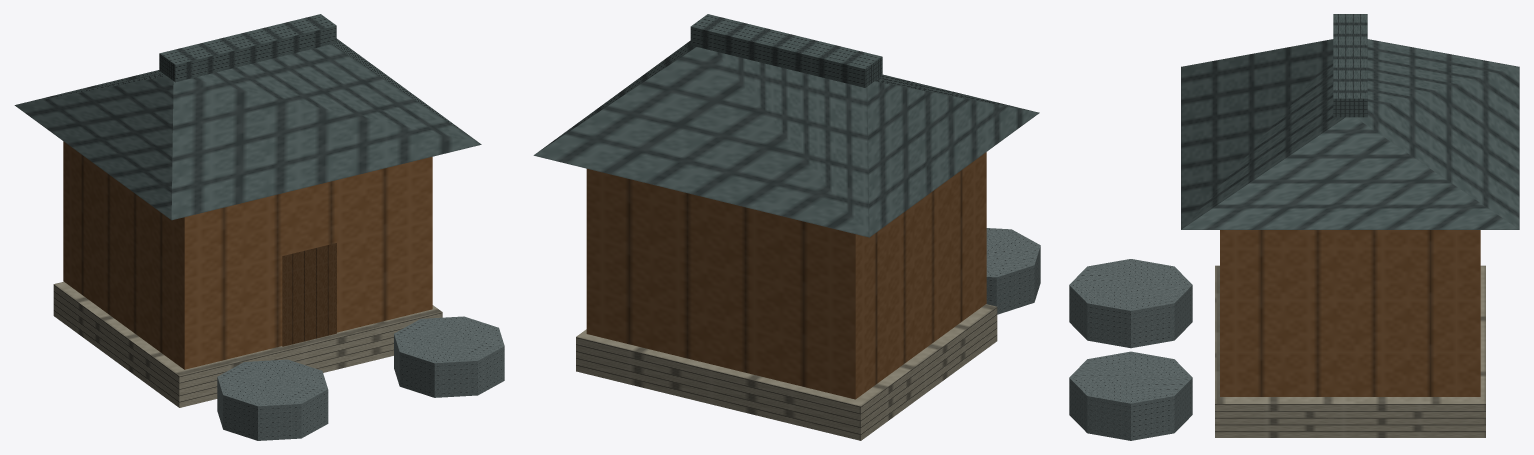
The model's file is domestic-MINT-1-lod2.glb.
The picture shows the model from 3 angles, left to right: view 1: azimuth 30°, elevation 25°; view 2: azimuth 150°, elevation 25°; view 3: azimuth 270°, elevation 25°; orthographic projection. The views are drawn at different scales.
Size of the model in its own units: 0.5625 by 0.503 by 0.657.
1 material, 1 textured.
